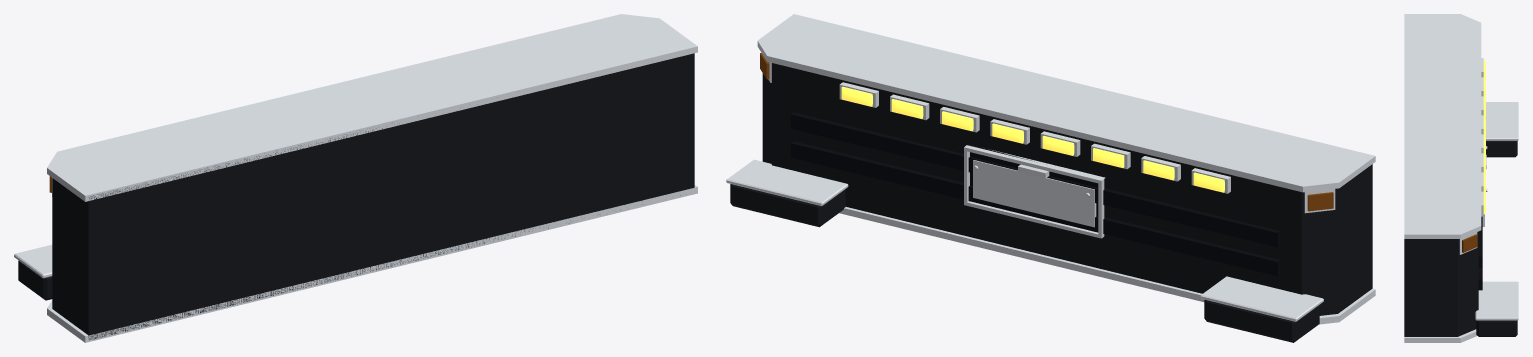
Rendered from fb_box_steps.glb.
3 views of the same model, side by side, from view 1: azimuth 30°, elevation 25°; view 2: azimuth 150°, elevation 25°; view 3: azimuth 270°, elevation 25° (orthographic). The views are drawn at different scales.
Parts seen in each view (by area): view 1: fb_box_steps_MID_deco_body, fb_box_steps_TOP_chrome, fb_box_steps_BOT_deco_body, fb_box_steps_TOP_deco_body, fb_box_steps_BOT_chrome; view 2: fb_box_steps_TOP_chrome, fb_box_steps_MID_deco_body, fb_box_steps_BOT_deco_body, fb_box_steps_MID_deco_trim, fb_box_steps_TOP_deco_body, fb_box_steps_BOT_chrome, fb_box_steps_CEN_deco_plate, fb_box_steps_TOP_lamp_amber, fb_box_steps_CEN_chrome, fb_box_steps_CEN_deco_trim, fb_box_steps_TOP_deco_signal; view 3: fb_box_steps_TOP_chrome, fb_box_steps_MID_deco_body, fb_box_steps_BOT_chrome, fb_box_steps_BOT_deco_body, fb_box_steps_TOP_deco_body, fb_box_steps_TOP_lamp_amber, fb_box_steps_MID_deco_trim, fb_box_steps_TOP_deco_signal.
Boxes of the visible parts, box(x1,y1,x2,y2) form: fb_box_steps_MID_deco_body: box(52, 83, 694, 306); fb_box_steps_TOP_chrome: box(47, 14, 697, 201); fb_box_steps_BOT_deco_body: box(18, 159, 694, 340); fb_box_steps_TOP_deco_body: box(52, 53, 694, 230); fb_box_steps_BOT_chrome: box(14, 185, 697, 342); fb_box_steps_TOP_chrome: box(757, 14, 1375, 213); fb_box_steps_MID_deco_body: box(762, 74, 1372, 290); fb_box_steps_BOT_deco_body: box(730, 146, 1372, 342); fb_box_steps_MID_deco_trim: box(791, 112, 1280, 276); fb_box_steps_TOP_deco_body: box(762, 63, 1372, 218); fb_box_steps_BOT_chrome: box(726, 159, 1375, 324); fb_box_steps_CEN_deco_plate: box(973, 160, 1096, 227); fb_box_steps_TOP_lamp_amber: box(841, 86, 1224, 192); fb_box_steps_CEN_chrome: box(964, 145, 1105, 238); fb_box_steps_CEN_deco_trim: box(967, 144, 1105, 236); fb_box_steps_TOP_deco_signal: box(760, 53, 1333, 211); fb_box_steps_TOP_chrome: box(1404, 14, 1483, 254); fb_box_steps_MID_deco_body: box(1404, 251, 1478, 315); fb_box_steps_BOT_chrome: box(1404, 102, 1518, 342); fb_box_steps_BOT_deco_body: box(1404, 141, 1517, 336); fb_box_steps_TOP_deco_body: box(1404, 231, 1478, 259); fb_box_steps_TOP_lamp_amber: box(1483, 60, 1485, 214); fb_box_steps_MID_deco_trim: box(1478, 216, 1482, 290); fb_box_steps_TOP_deco_signal: box(1462, 234, 1477, 252).
Bounding box in the file's own units: 2.53 × 0.58 × 0.555.
